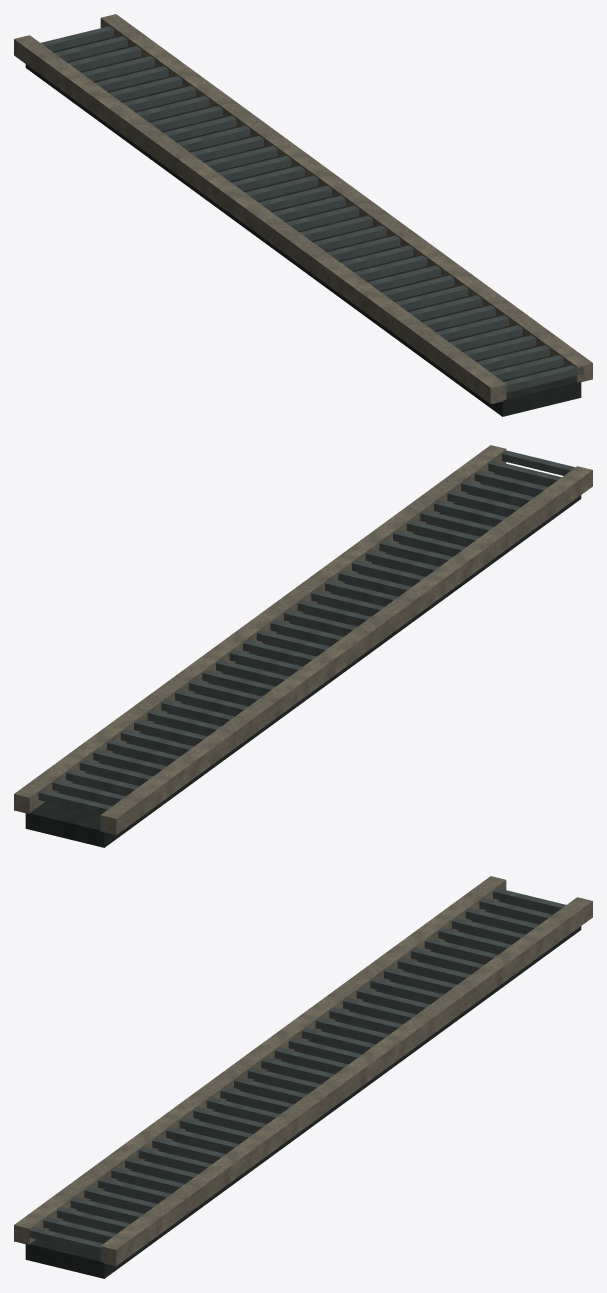
The model's file is RURAL_dreno_ordenha.gltf.
The picture shows the model from 3 angles, top to bottom: view 1: azimuth 30°, elevation 25°; view 2: azimuth 150°, elevation 25°; view 3: azimuth 330°, elevation 25°; orthographic projection.
Parts seen in each view (by area): view 1: dreno_ordenha_GRELHA, dreno_ordenha_BORDA, dreno_ordenha_CANALETA; view 2: dreno_ordenha_GRELHA, dreno_ordenha_BORDA, dreno_ordenha_CANALETA; view 3: dreno_ordenha_GRELHA, dreno_ordenha_BORDA, dreno_ordenha_CANALETA.
Part boxes in pixels (box(x1,y1,x2,y2)): dreno_ordenha_GRELHA: box(41, 26, 583, 393); dreno_ordenha_BORDA: box(14, 14, 592, 404); dreno_ordenha_CANALETA: box(25, 38, 581, 416); dreno_ordenha_GRELHA: box(38, 450, 575, 814); dreno_ordenha_BORDA: box(14, 445, 592, 835); dreno_ordenha_CANALETA: box(25, 472, 581, 847); dreno_ordenha_GRELHA: box(23, 888, 565, 1255); dreno_ordenha_BORDA: box(14, 876, 592, 1266); dreno_ordenha_CANALETA: box(25, 900, 581, 1278).
Bounding box in the file's own units: 0.52 × 0.155 × 4.2.
Materials: 2 (2 with a texture image).
